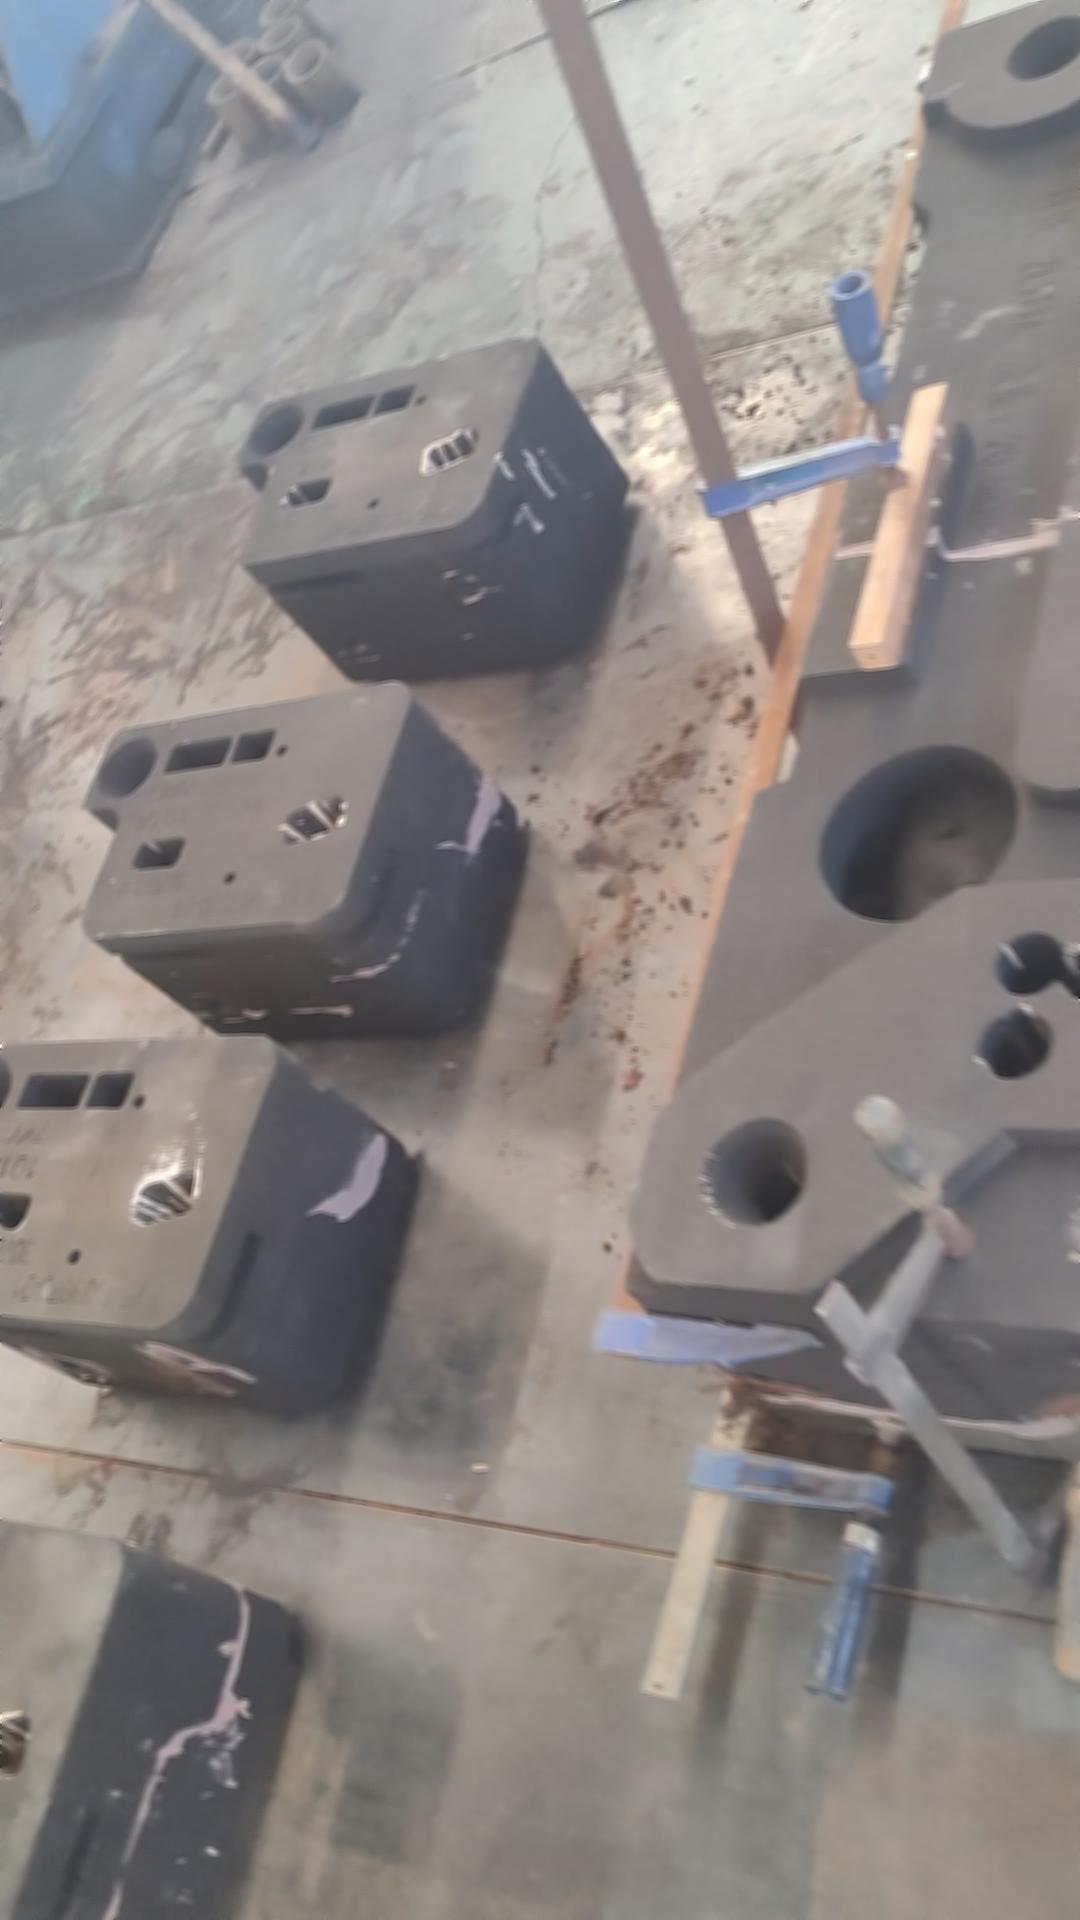pouring hole: (702, 1118, 808, 1228), (1006, 13, 1080, 83), (94, 736, 157, 798), (247, 404, 305, 456), (287, 45, 319, 78), (243, 58, 281, 84), (208, 71, 244, 98), (220, 40, 253, 67), (258, 22, 295, 44), (257, 1, 298, 20), (1, 1062, 15, 1112)
